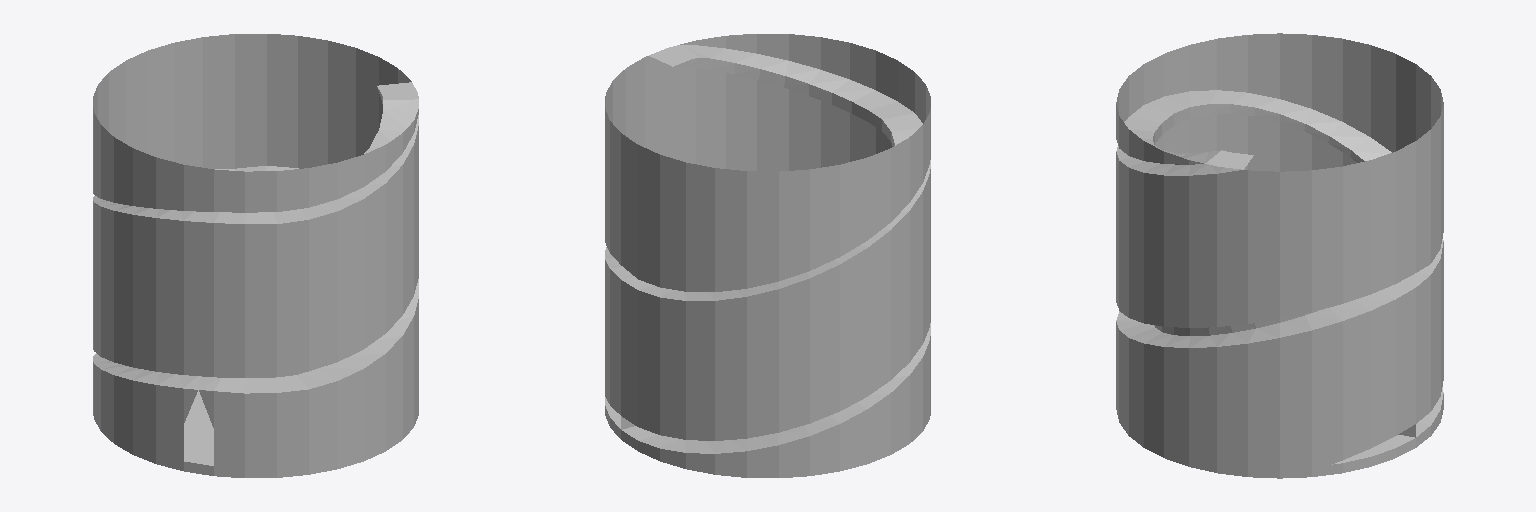
The model's file is spiral_staircase_cult_exit_DOUBLEFLOOR_TEST.obj.
3 views of the same model, side by side, from view 1: azimuth 30°, elevation 25°; view 2: azimuth 150°, elevation 25°; view 3: azimuth 270°, elevation 25° (orthographic).
Visible parts, largest first — view 1: Cylinder_Mesh; view 2: Cylinder_Mesh; view 3: Cylinder_Mesh.
Part boxes in pixels (bbox=[...]): Cylinder_Mesh: bbox=[93, 34, 418, 477]; Cylinder_Mesh: bbox=[605, 34, 930, 477]; Cylinder_Mesh: bbox=[1116, 33, 1443, 478].
Bounding box in the file's own units: 15.75 × 16.29 × 15.75.